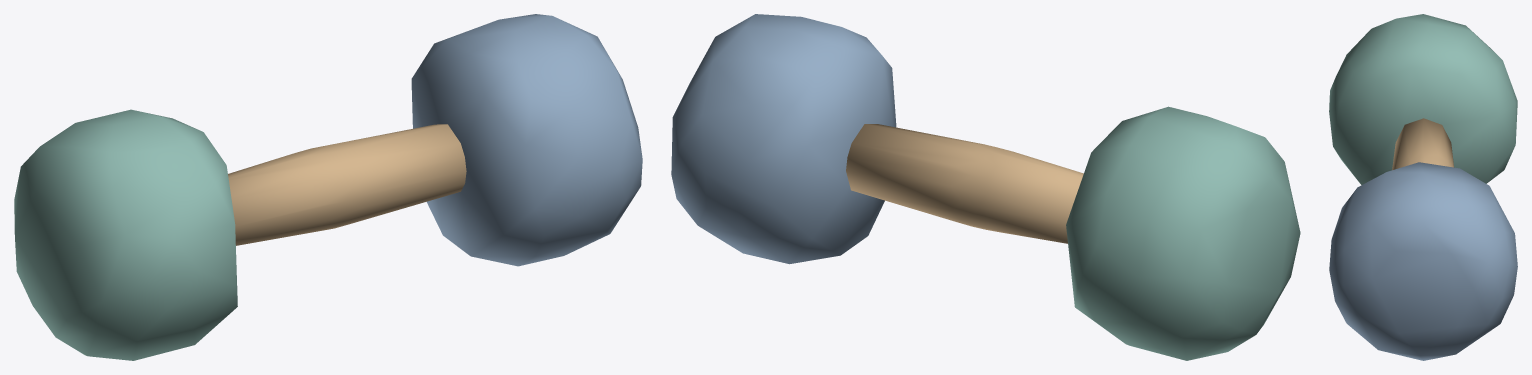
The picture shows the model from 3 angles, left to right: view 1: azimuth 30°, elevation 25°; view 2: azimuth 150°, elevation 25°; view 3: azimuth 270°, elevation 25°; orthographic projection. The views are drawn at different scales.
Bounding box in the file's own units: 1.95 × 0.7441 × 0.7454.
